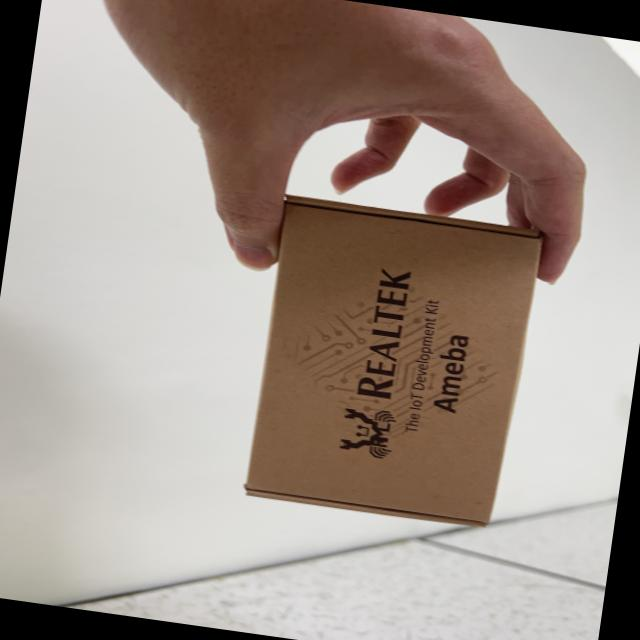box: (195, 174, 558, 562)
